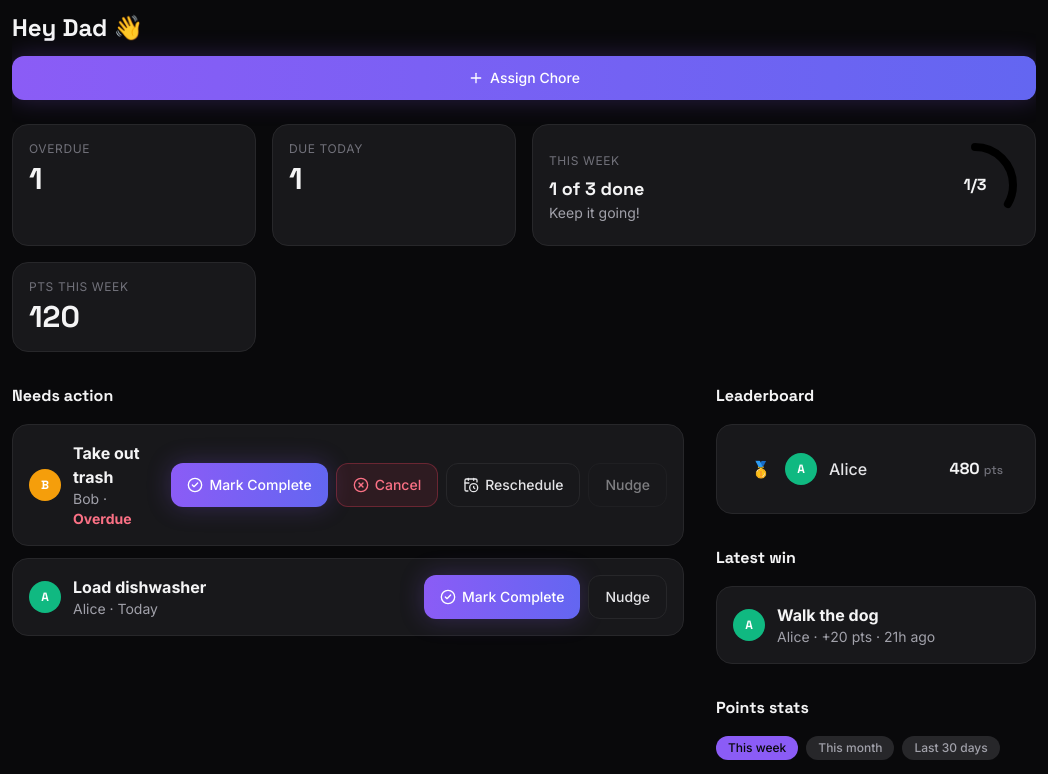
ParentDashboard › nudges a chore and shows a success toast
The image size is (1048, 774).
What coordinates should you click on to do the following:
click the button "Nudge" in the row of "Load dishwasher"
I would click on:
 (628, 597)
Its box is top-left (588, 575), bottom-right (667, 619).
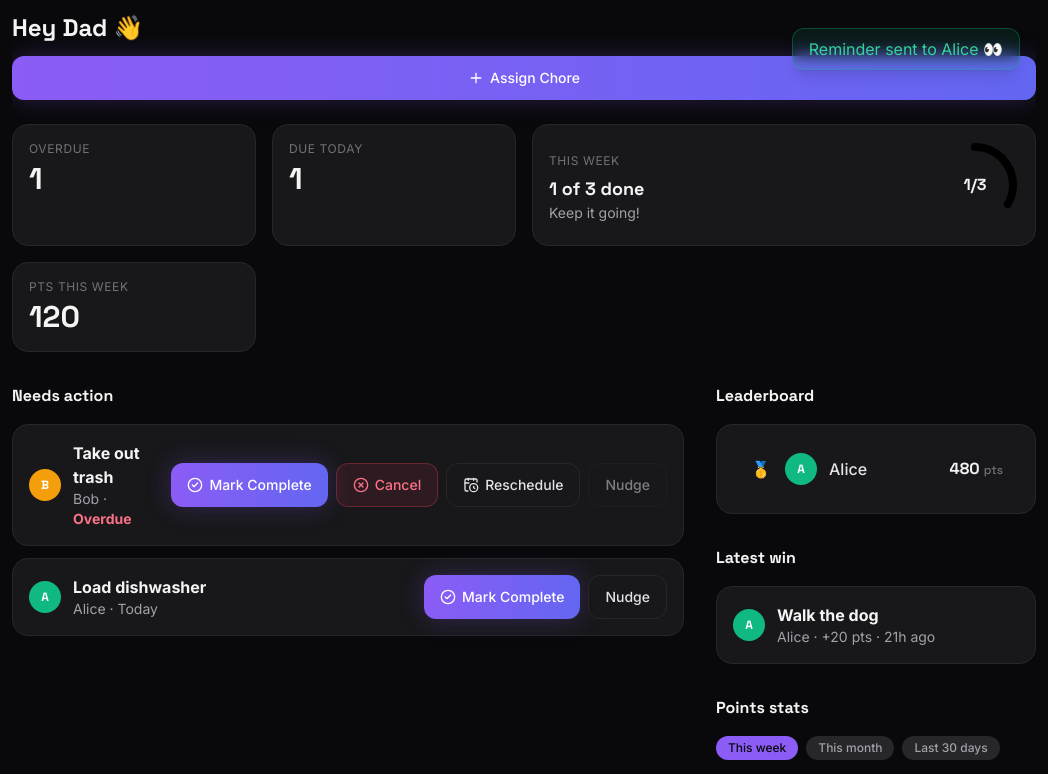
Result: the text "Reminder sent to Alice 👀" is shown at top-left (792, 28), bottom-right (1020, 70)
